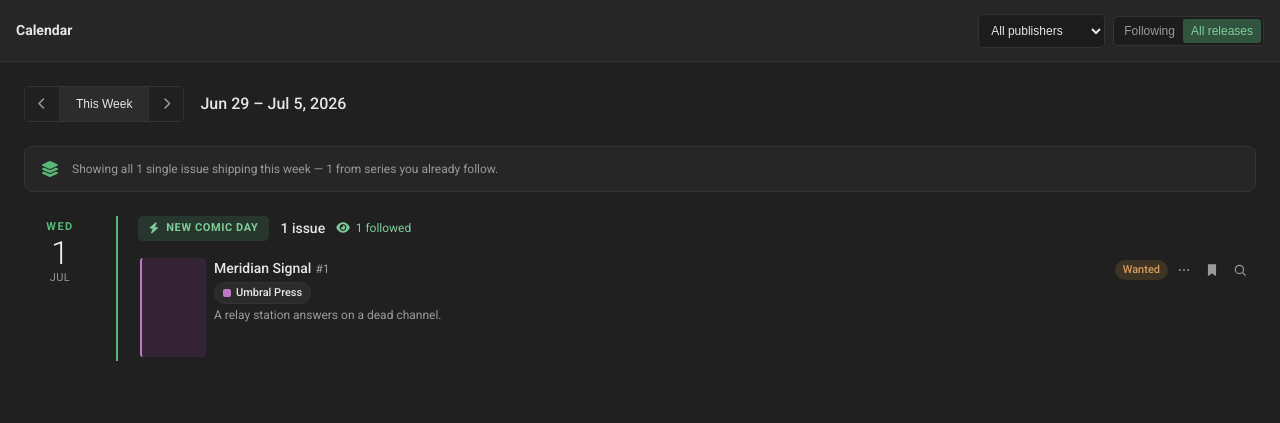
FRG-UI-047: a control that is present is a real, honest control › FRG-UI-047 — the details control references the panel it opens, and only while it exists
The width and height of the screenshot is (1280, 423).
Expected: the list item with test id "calendar-card-1" is shown, [138, 254, 1256, 361]
Click the button named "Show details for Meridian Signal" at (1184, 270), box [1172, 258, 1196, 282]
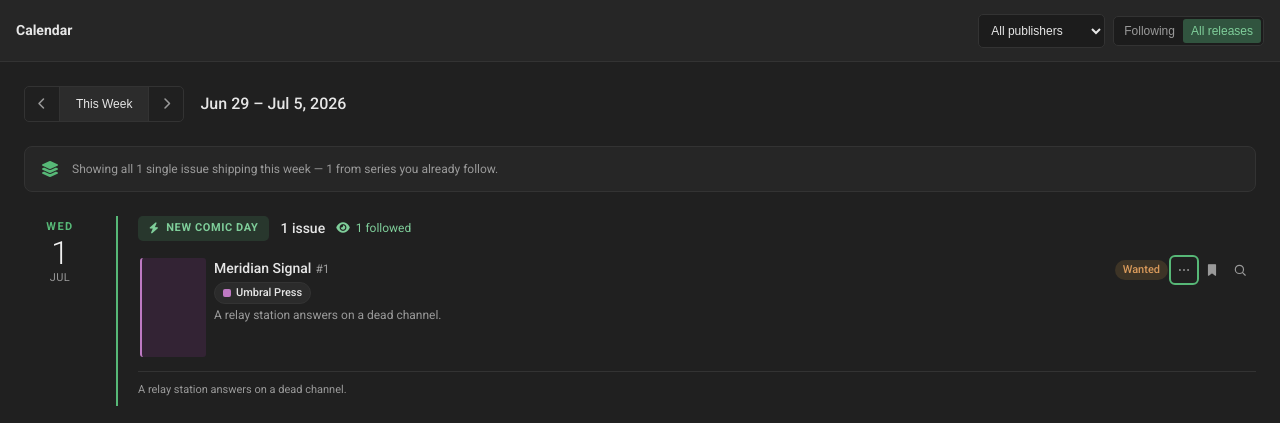
Expected: the element with id "calendar-detail-1" is shown, [138, 371, 1256, 398]
